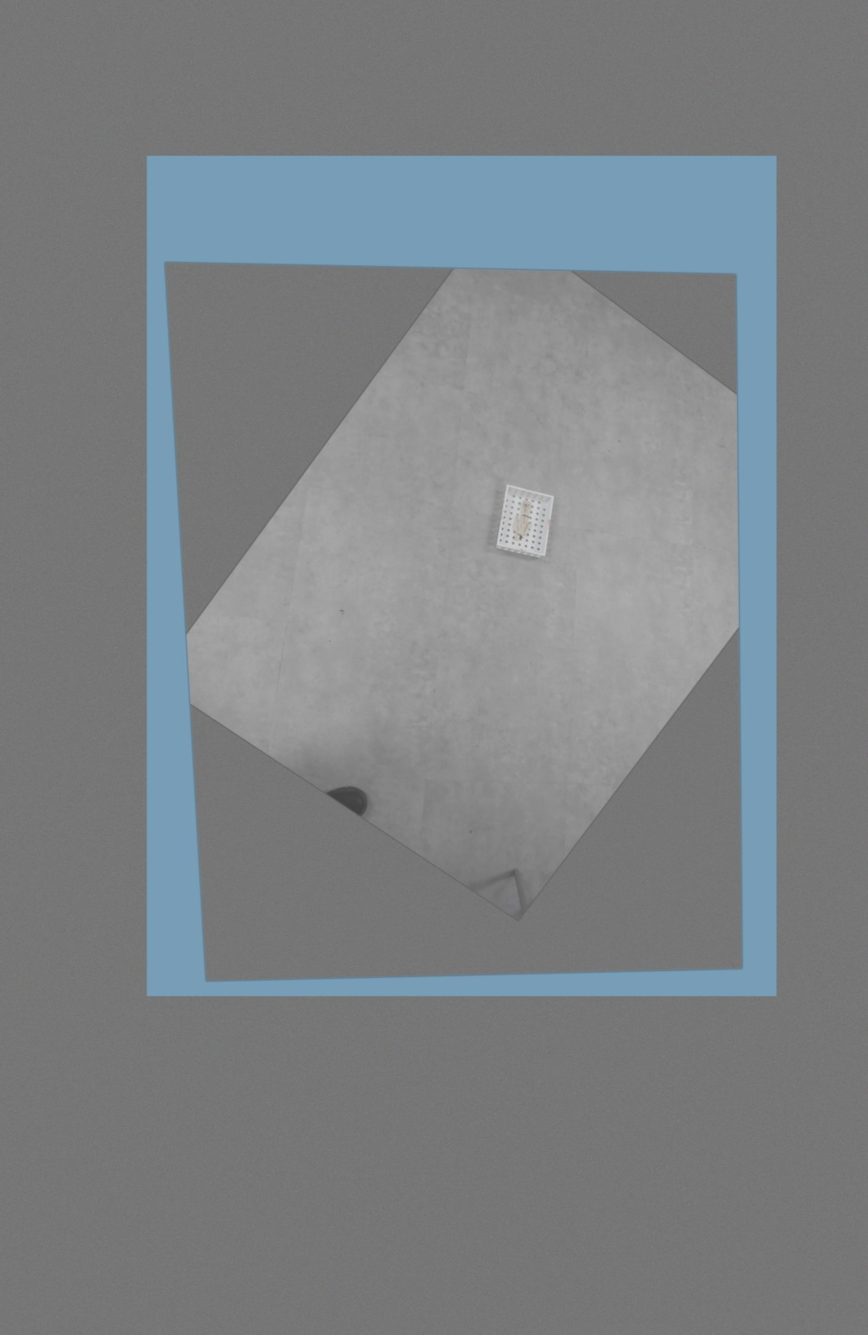basket: (494, 483, 556, 562)
mannequin: (513, 500, 531, 545)
